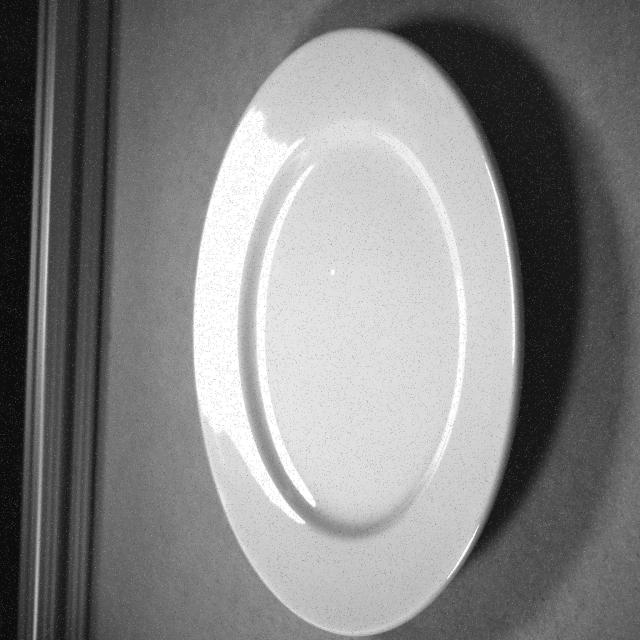plate: (194, 29, 522, 635)
